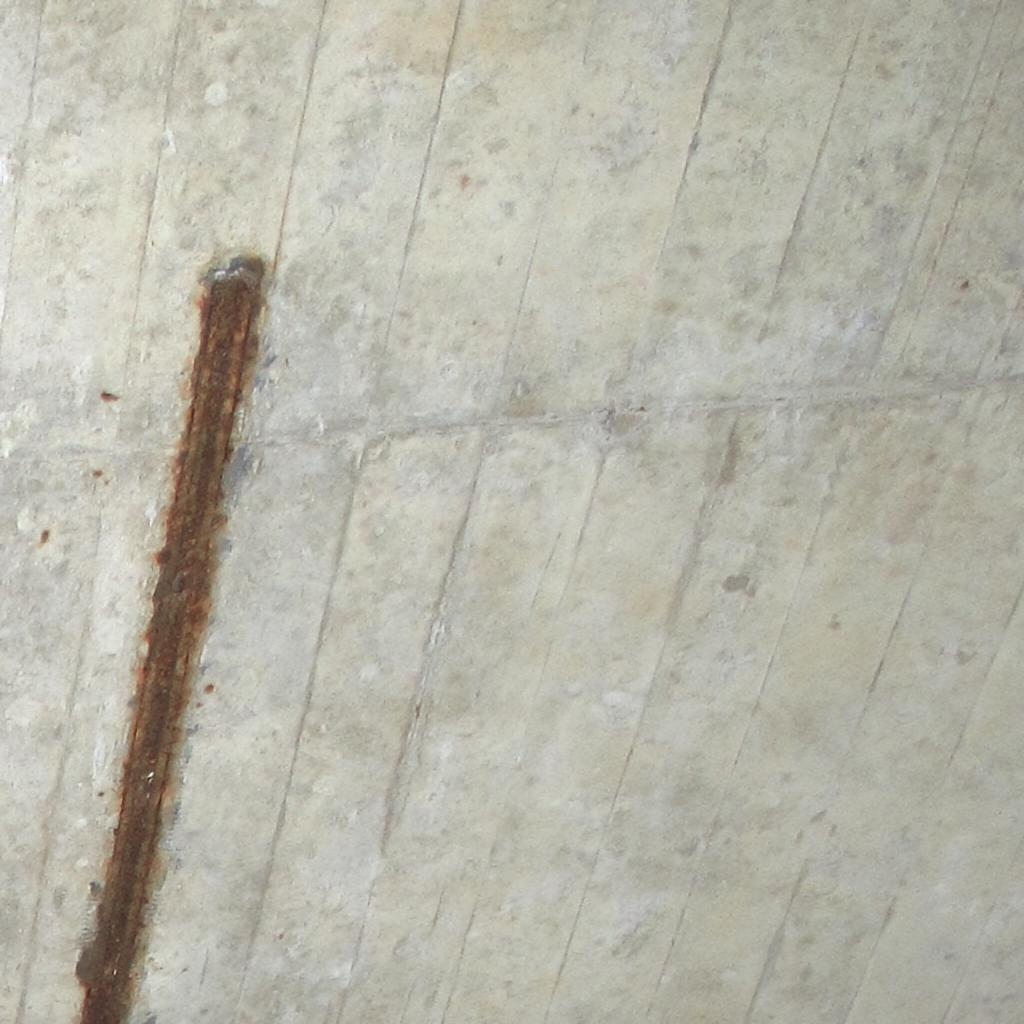exposed_rebar: (78, 258, 264, 1023)
